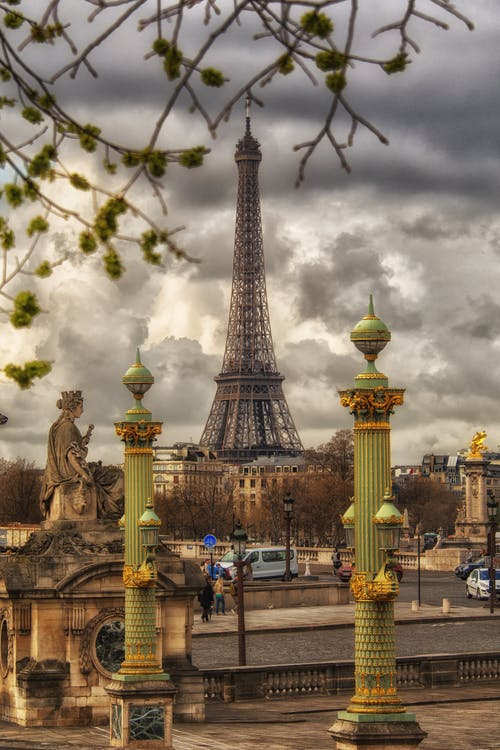eiffel tower: (148, 69, 325, 468)
